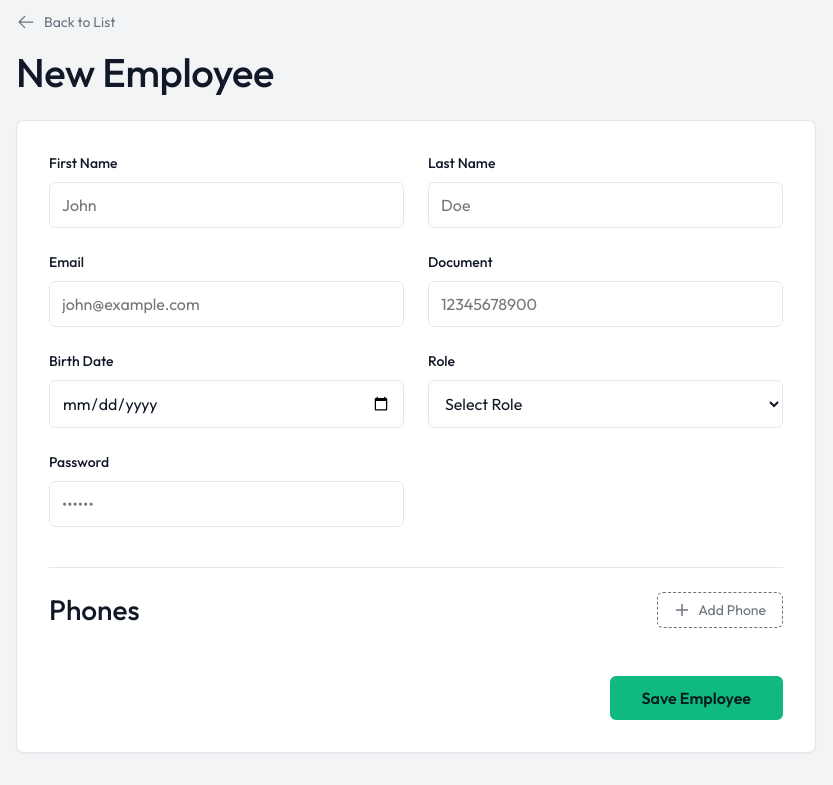
Test: EmployeeForm › Validation › shows validation errors for empty required fields
The width and height of the screenshot is (833, 785).
Step 1. Click the button "Save Employee" → (696, 698), box [610,676,783,720]
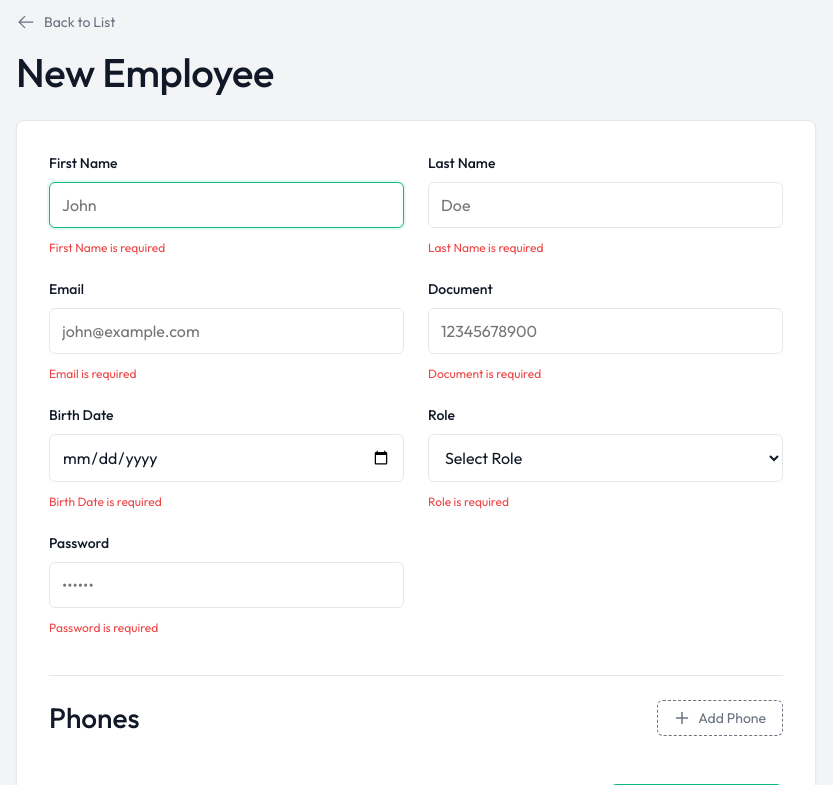
Expected: the text "First Name is required" is shown, [49,240,165,255]
